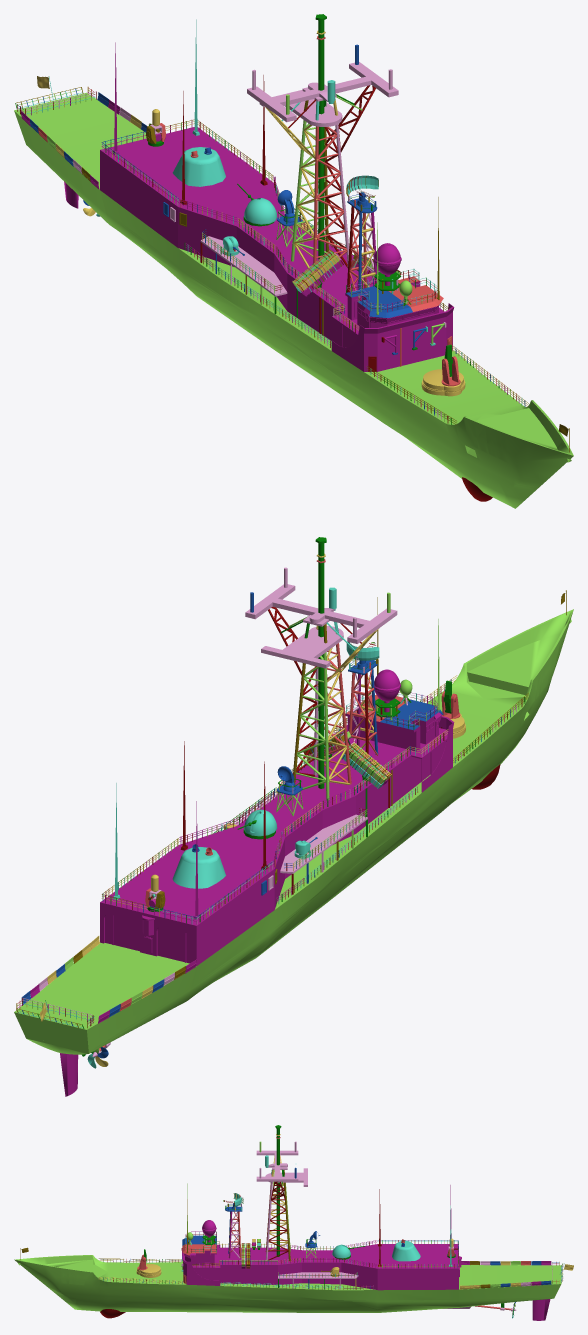
Rendered from Cheng Kung class frigate ROCS FFG 1107.obj.
3 views of the same model, one above another, from view 1: azimuth 30°, elevation 25°; view 2: azimuth 150°, elevation 25°; view 3: azimuth 270°, elevation 25° (orthographic). The views are drawn at different scales.
Visible parts, largest first — view 1: Group_30_001, Group_59_001, Group_28_001, Group_72_001, Group_001, Component_18_001, Group_084, Group_29_001, Component_19_005, Group_089, Group_107, Component_19_007 (+2 smaller); view 2: Group_30_001, Group_59_001, Group_28_001, Group_29_001, Group_72_001, Group_001, Component_18_001, Group_084, Component_19_001, Component_19_007, Group_064; view 3: Group_30_001, Group_59_001, Group_28_001, Group_001, Group_72_001, Component_18_001, Component_19_003, Group_37_001, Group_089, Group_29_001.
Part boxes in pixels (x1,y1,x2,y2): Group_30_001: (14,92,573,508); Group_59_001: (100,127,454,371); Group_28_001: (247,62,398,122); Group_72_001: (172,147,225,186); Group_001: (200,233,329,296); Component_18_001: (315,14,326,259); Group_084: (346,286,412,317); Group_29_001: (259,84,342,126); Component_19_005: (313,127,347,258); Group_089: (389,276,443,311); Group_107: (421,369,465,396); Component_19_007: (293,125,318,268); Group_30_001: (14,609,573,1054); Group_59_001: (100,705,454,965); Group_28_001: (245,584,397,643); Group_29_001: (261,626,343,668); Group_72_001: (172,847,225,888); Group_001: (235,795,367,873); Component_18_001: (315,537,326,788); Group_084: (380,699,443,730); Component_19_001: (295,638,329,790); Component_19_007: (326,633,350,784); Group_064: (374,669,400,717); Group_30_001: (14,1255,561,1312); Group_59_001: (182,1240,459,1290); Group_28_001: (256,1150,298,1181); Group_001: (278,1272,358,1278); Group_72_001: (392,1241,420,1261); Component_18_001: (275,1125,281,1256); Component_19_003: (267,1182,288,1260); Group_37_001: (532,1299,550,1320); Group_089: (182,1244,216,1255); Group_29_001: (265,1168,307,1186).
Bounding box in the file's own units: 653 × 2062 × 5401.
